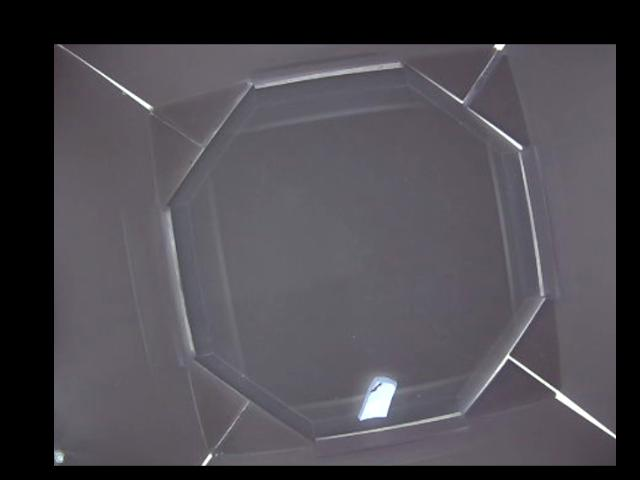China: (360, 371, 399, 423)
